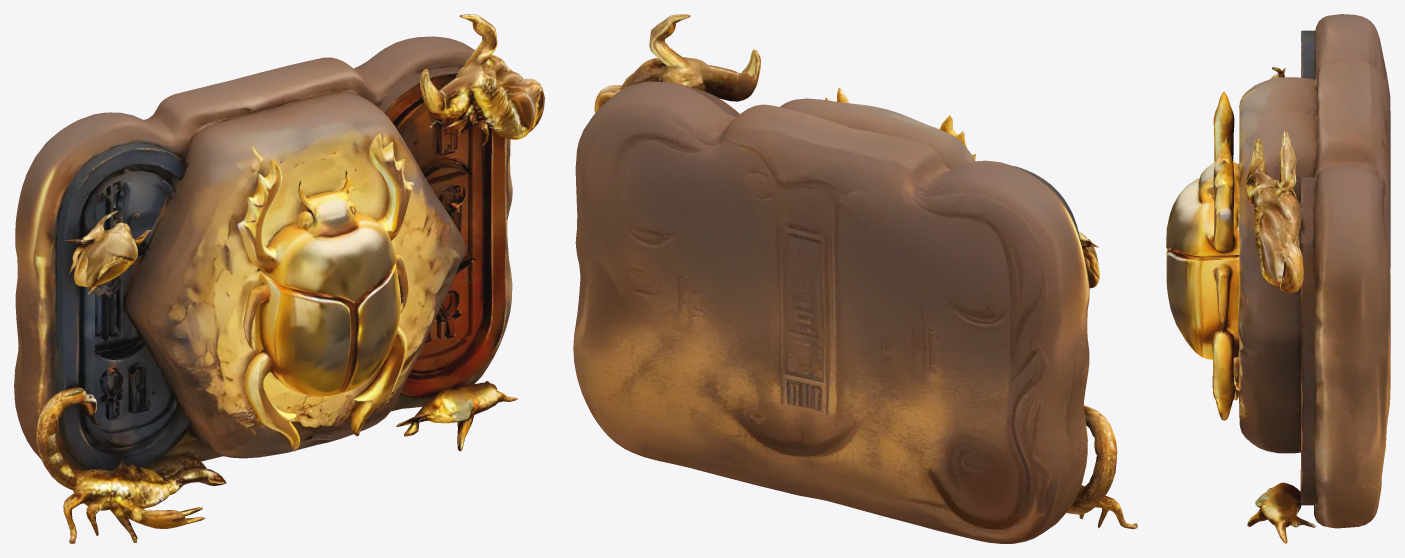
File: bughunter.glb
The picture shows the model from 3 angles, left to right: view 1: azimuth 30°, elevation 25°; view 2: azimuth 150°, elevation 25°; view 3: azimuth 270°, elevation 25°; orthographic projection. The views are drawn at different scales.
Parts seen in each view (by area): view 1: model; view 2: model; view 3: model.
Part boxes in pixels (x1=…): model: x1=14, y1=14, x2=544, y2=543; model: x1=573, y1=14, x2=1137, y2=543; model: x1=1166, y1=14, x2=1390, y2=543.
Size of the model in its own units: 1.79 by 1.43 by 0.71.
Materials: 1 (1 with a texture image).
